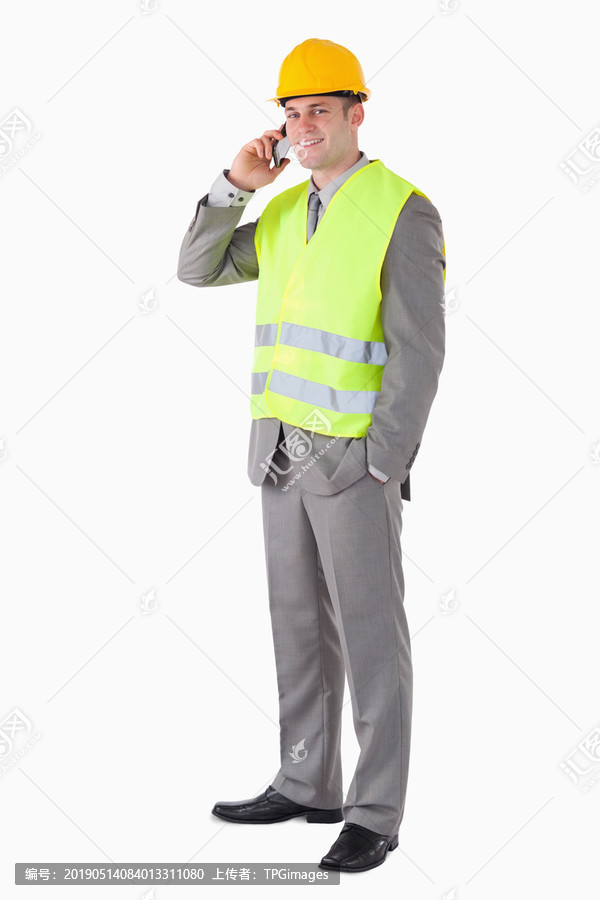safetyhat: (169, 26, 466, 863)
